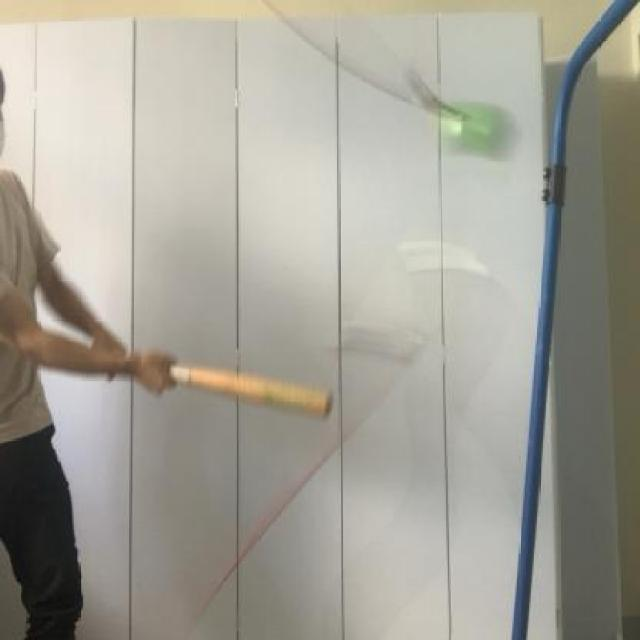baseball: (437, 86, 521, 168)
